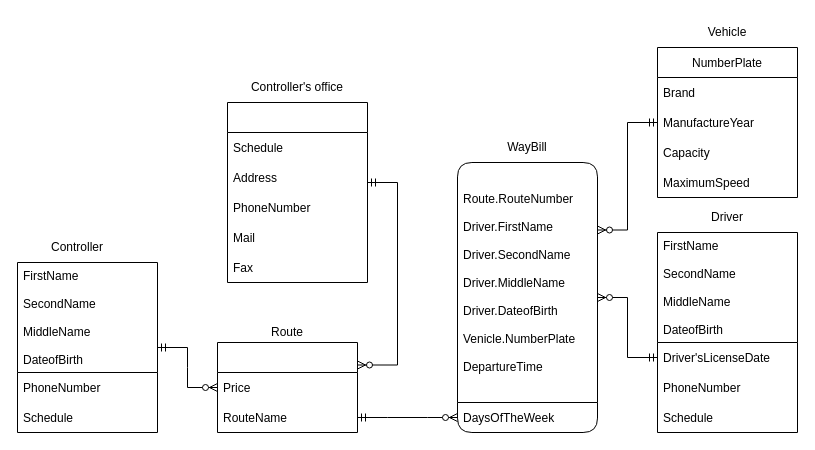
Some shapes in this 815 by 450 pixel diagram are drawn without their labels. The box of each missing label's shape, as (x1, y1, x2, y2) in pixels:
OfficeName: (226, 102, 368, 282)
RouteNumber: (216, 342, 358, 432)
